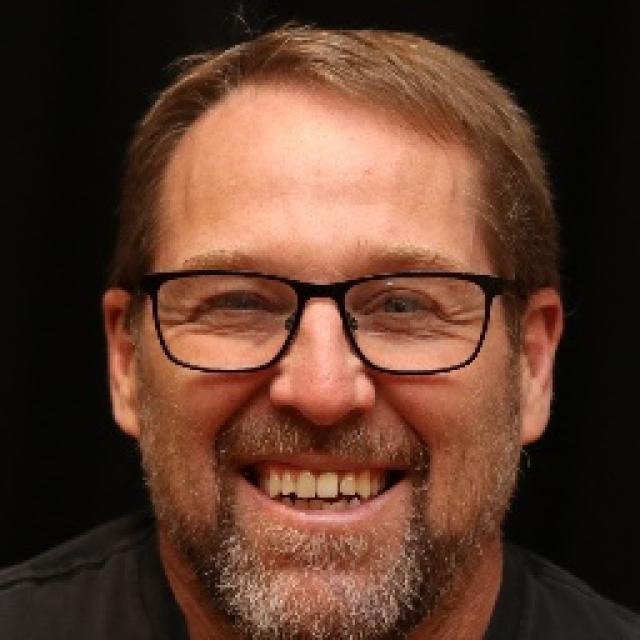earlobe: (517, 286, 564, 447), (101, 288, 144, 439)
